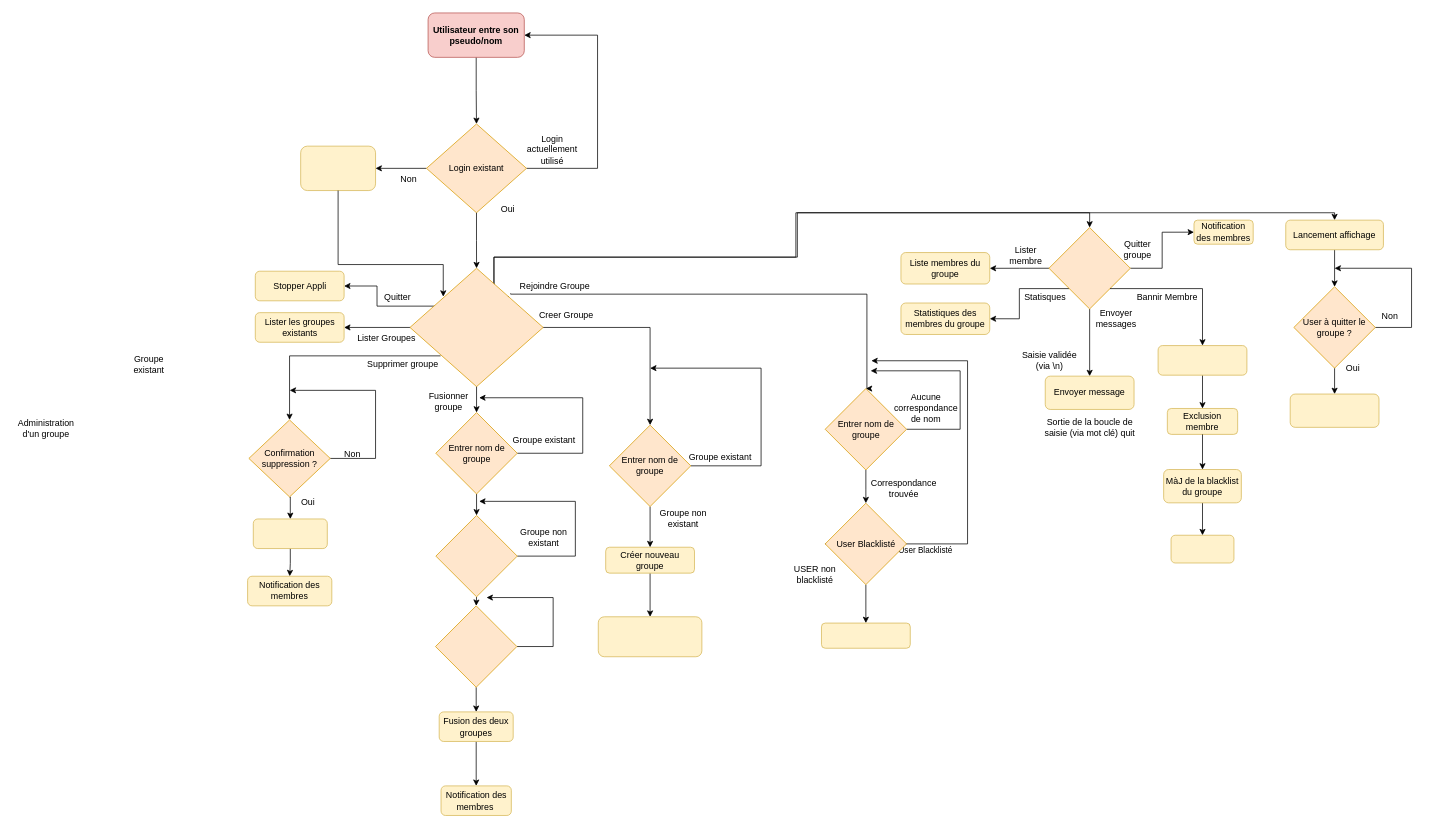
This 1430x829 diagram has some shape labels left out. The box of each missing label's shape, as (x1, y1, x2, y2) in pixels:
Dialoguer sur le groupe actif: (1048, 227, 1130, 309)
Enregistrement du nouveau login: (300, 145, 376, 191)
Entrer le nom du deuxième groupe: (435, 515, 517, 597)
Entrer nom du membre: (1157, 345, 1247, 375)
Le groupe est rejoint: (821, 622, 910, 648)
Menu application: (409, 268, 543, 387)
Nom user / associé nom groupe --> Devient gestionnaire: (598, 616, 702, 657)
Notification du membre: (1170, 535, 1234, 563)
Stopper affichage: (1289, 393, 1379, 427)
Suppression du groupe: (253, 518, 327, 549)
Utilisateur gestionnaire des deux groupes ?: (435, 605, 517, 687)
